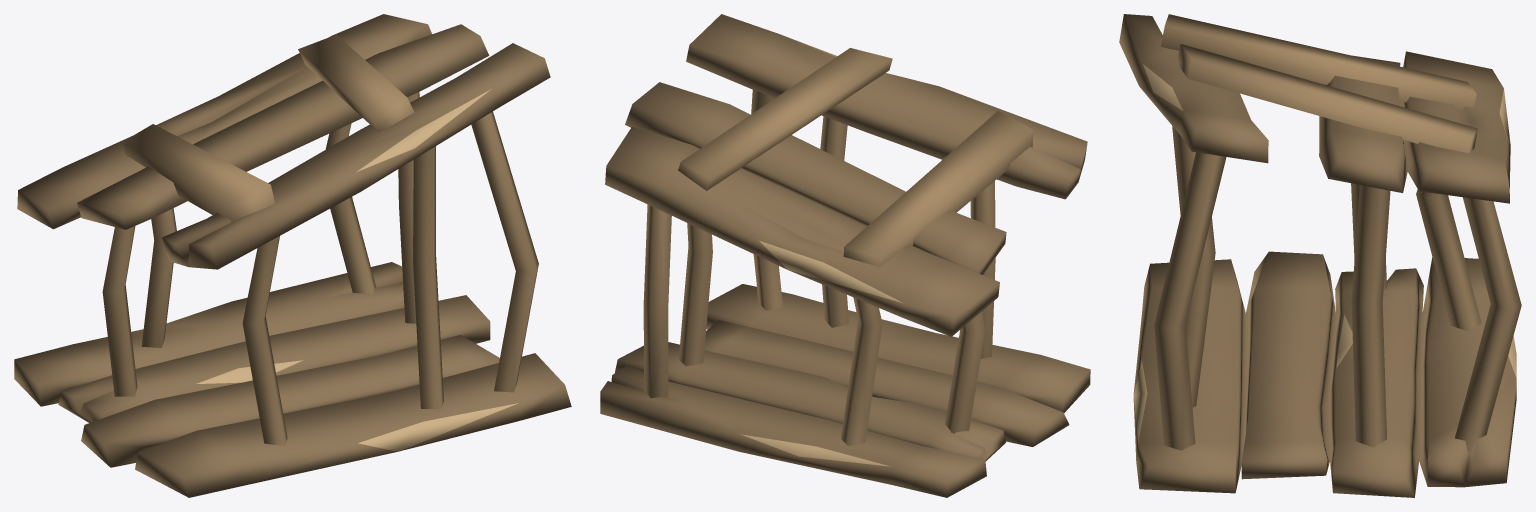
File: rpgpp_av_cage_02b.gltf
The picture shows the model from 3 angles, left to right: view 1: azimuth 30°, elevation 25°; view 2: azimuth 150°, elevation 25°; view 3: azimuth 270°, elevation 25°; orthographic projection. The views are drawn at different scales.
Parts seen in each view (by area): view 1: rpgpp_av_cage_02b; view 2: rpgpp_av_cage_02b; view 3: rpgpp_av_cage_02b.
Boxes of the visible parts, box(x1,y1,x2,y2) form: rpgpp_av_cage_02b: box(14, 14, 571, 497); rpgpp_av_cage_02b: box(600, 14, 1090, 497); rpgpp_av_cage_02b: box(1119, 14, 1521, 497).
Size of the model in its own units: 0.0107 by 0.00795 by 0.00806.
1 material, 1 textured.
